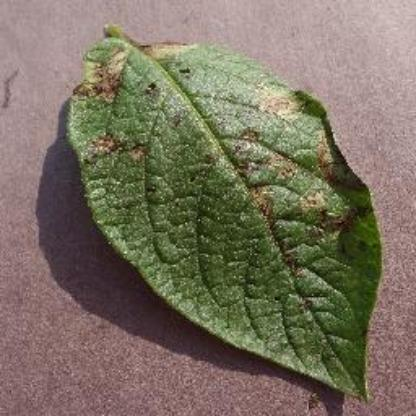Late-Blight: (49, 10, 395, 404)
